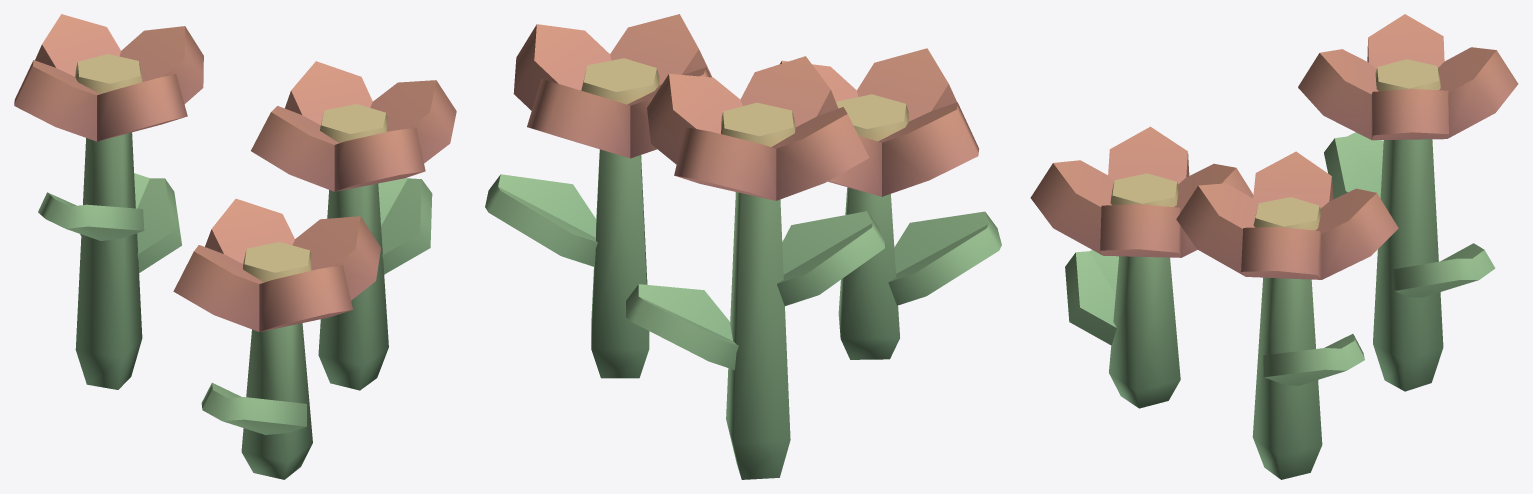
The model's file is flowers_tall.gltf.
3 renders of one model, left to right at view 1: azimuth 30°, elevation 25°; view 2: azimuth 150°, elevation 25°; view 3: azimuth 270°, elevation 25°, orthographic. The views are drawn at different scales.
Visible parts, largest first — view 1: flowers_tall; view 2: flowers_tall; view 3: flowers_tall.
Part boxes in pixels (x1,y1,x2,y2): flowers_tall: (14, 14, 456, 479); flowers_tall: (485, 14, 1001, 479); flowers_tall: (1030, 14, 1518, 479).
Size of the model in its own units: 0.546 by 0.4616 by 0.6183.
